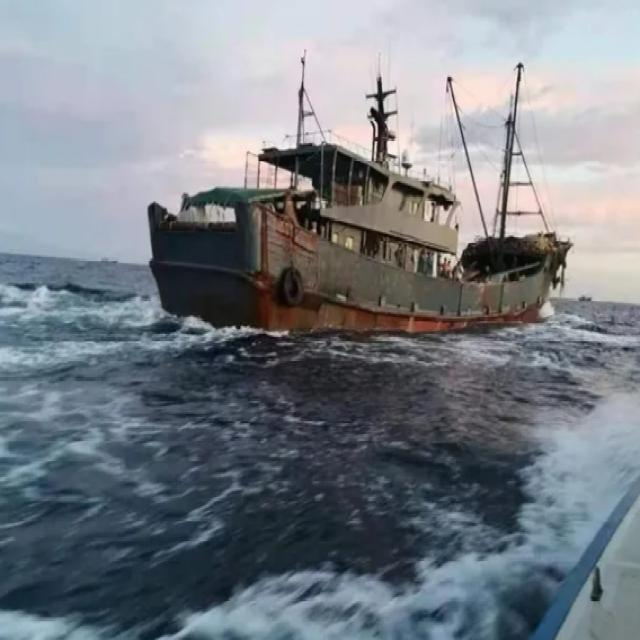fishing boat: (141, 34, 572, 325)
